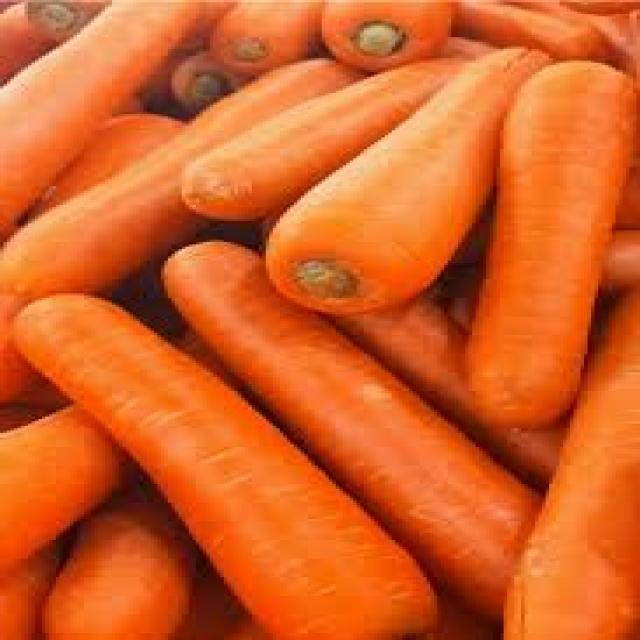Fresh_Carrot: (163, 230, 562, 615), (8, 298, 440, 640), (251, 38, 548, 307), (466, 50, 640, 434), (191, 52, 487, 209)
